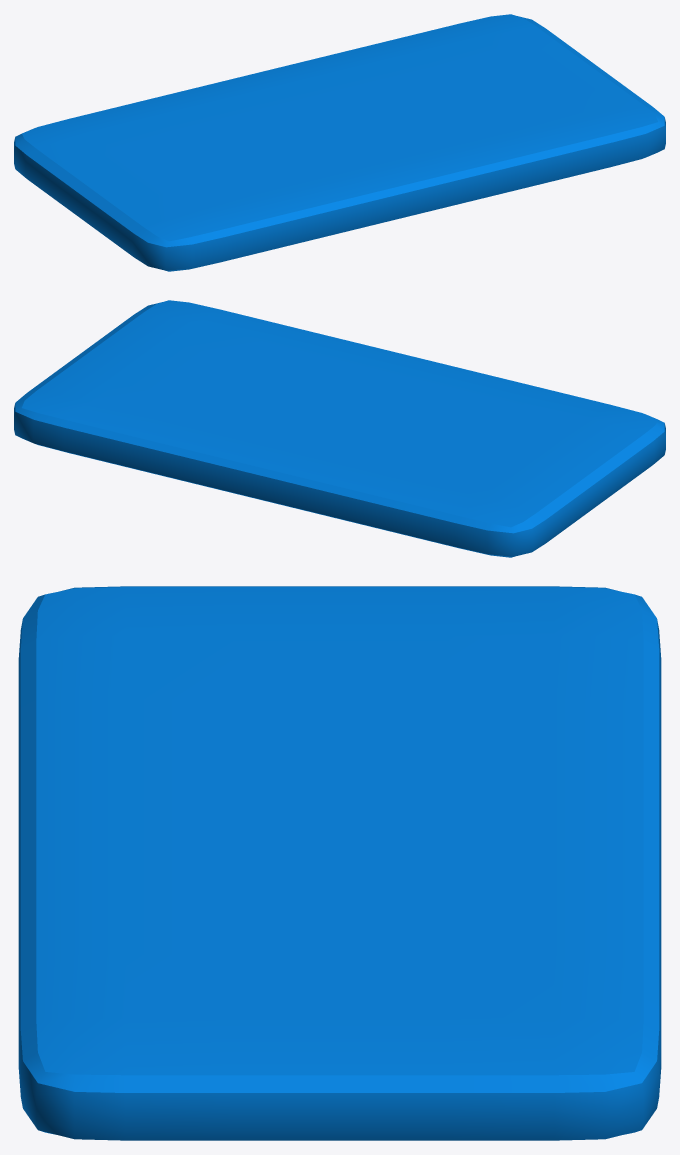
File: sm_simplecar.fbx
The picture shows the model from 3 angles, top to bottom: view 1: azimuth 30°, elevation 25°; view 2: azimuth 150°, elevation 25°; view 3: azimuth 270°, elevation 25°; orthographic projection. The views are drawn at different scales.
Visible parts, largest first — view 1: sm_simplecar; view 2: sm_simplecar; view 3: sm_simplecar.
Part boxes in pixels (x1=…): sm_simplecar: x1=14, y1=14, x2=665, y2=271; sm_simplecar: x1=14, y1=300, x2=665, y2=557; sm_simplecar: x1=18, y1=586, x2=661, y2=1140.
Size of the model in its own units: 4.5 by 0.3 by 2.4.
